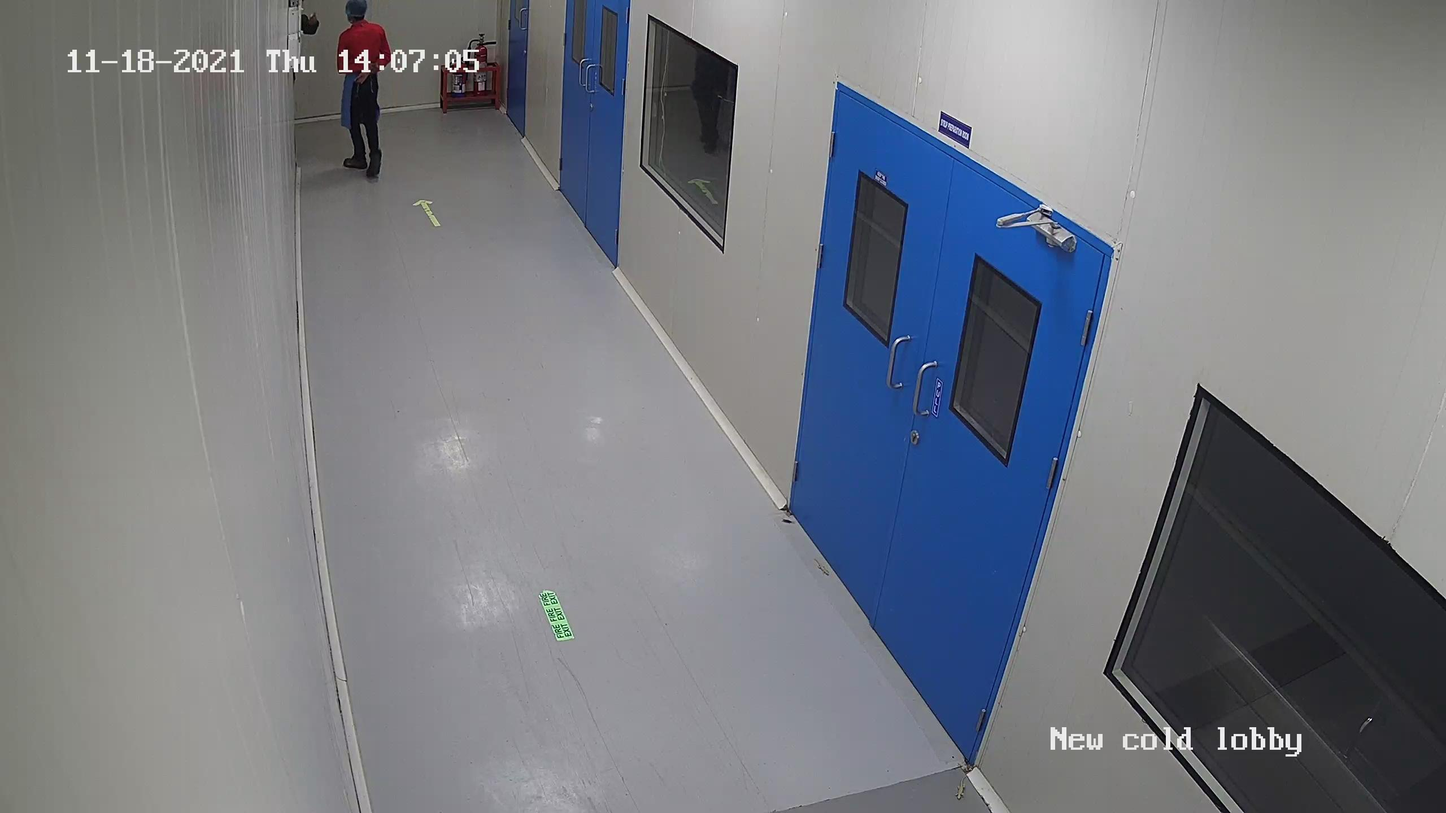cockroach: (780, 516, 797, 528)
lizard: (809, 554, 832, 578), (953, 772, 969, 803)
